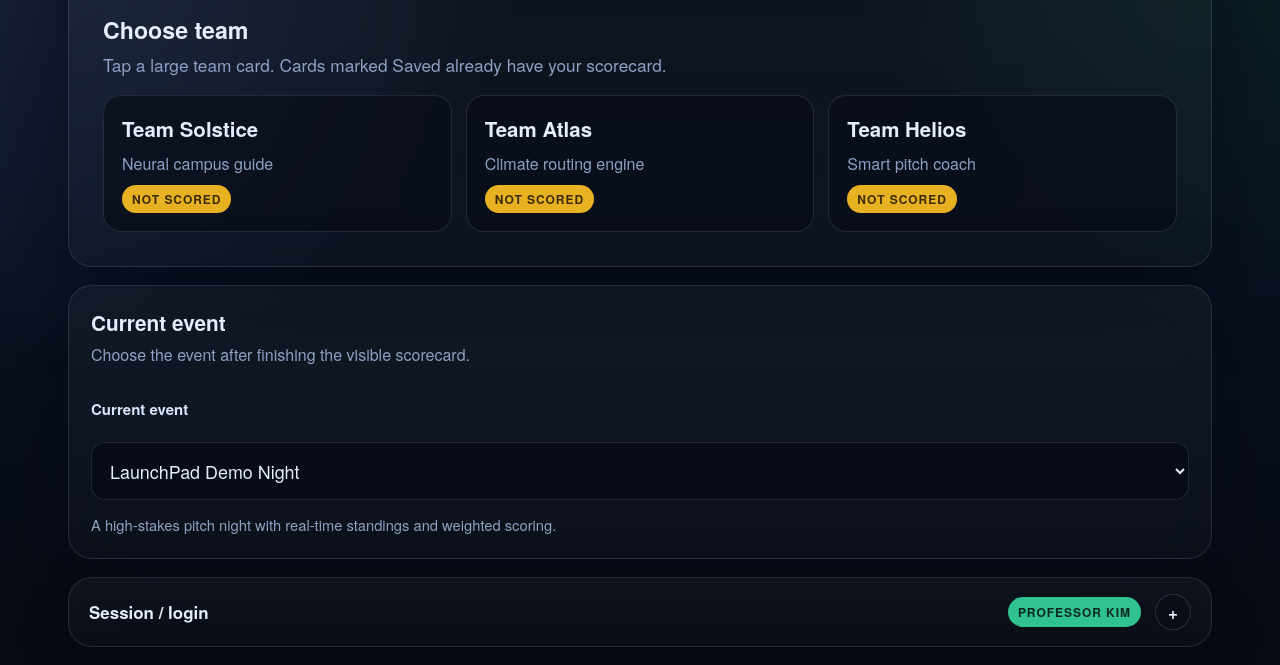
Test: AppShell Firebase role sync › signs teachers in from a QR URL as judges
The width and height of the screenshot is (1280, 665).
(page scrolled)
Click the text "Session / login": (149, 612) [89, 600, 208, 624]
(page scrolled)
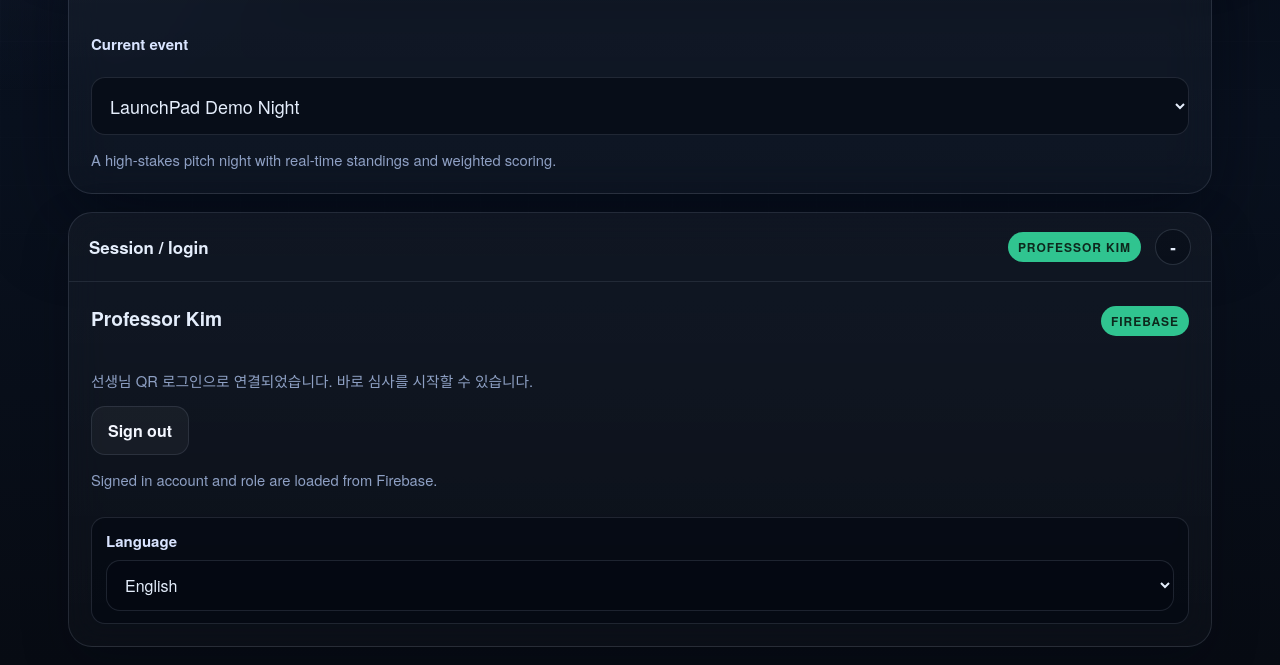
Expected: the heading "Professor Kim" is shown, [91, 304, 222, 332]
